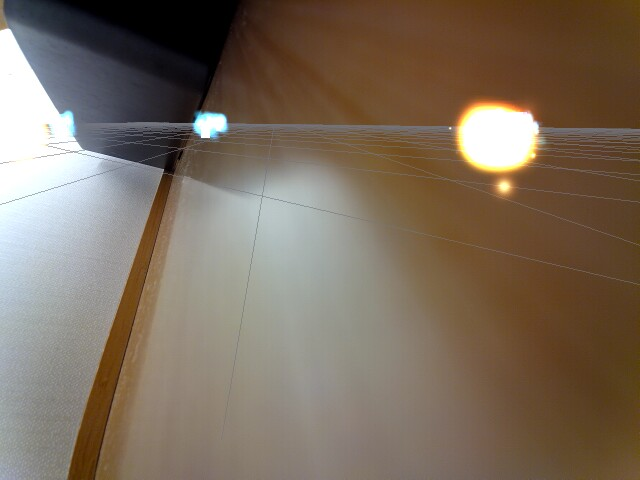firebig: (443, 93, 539, 187)
